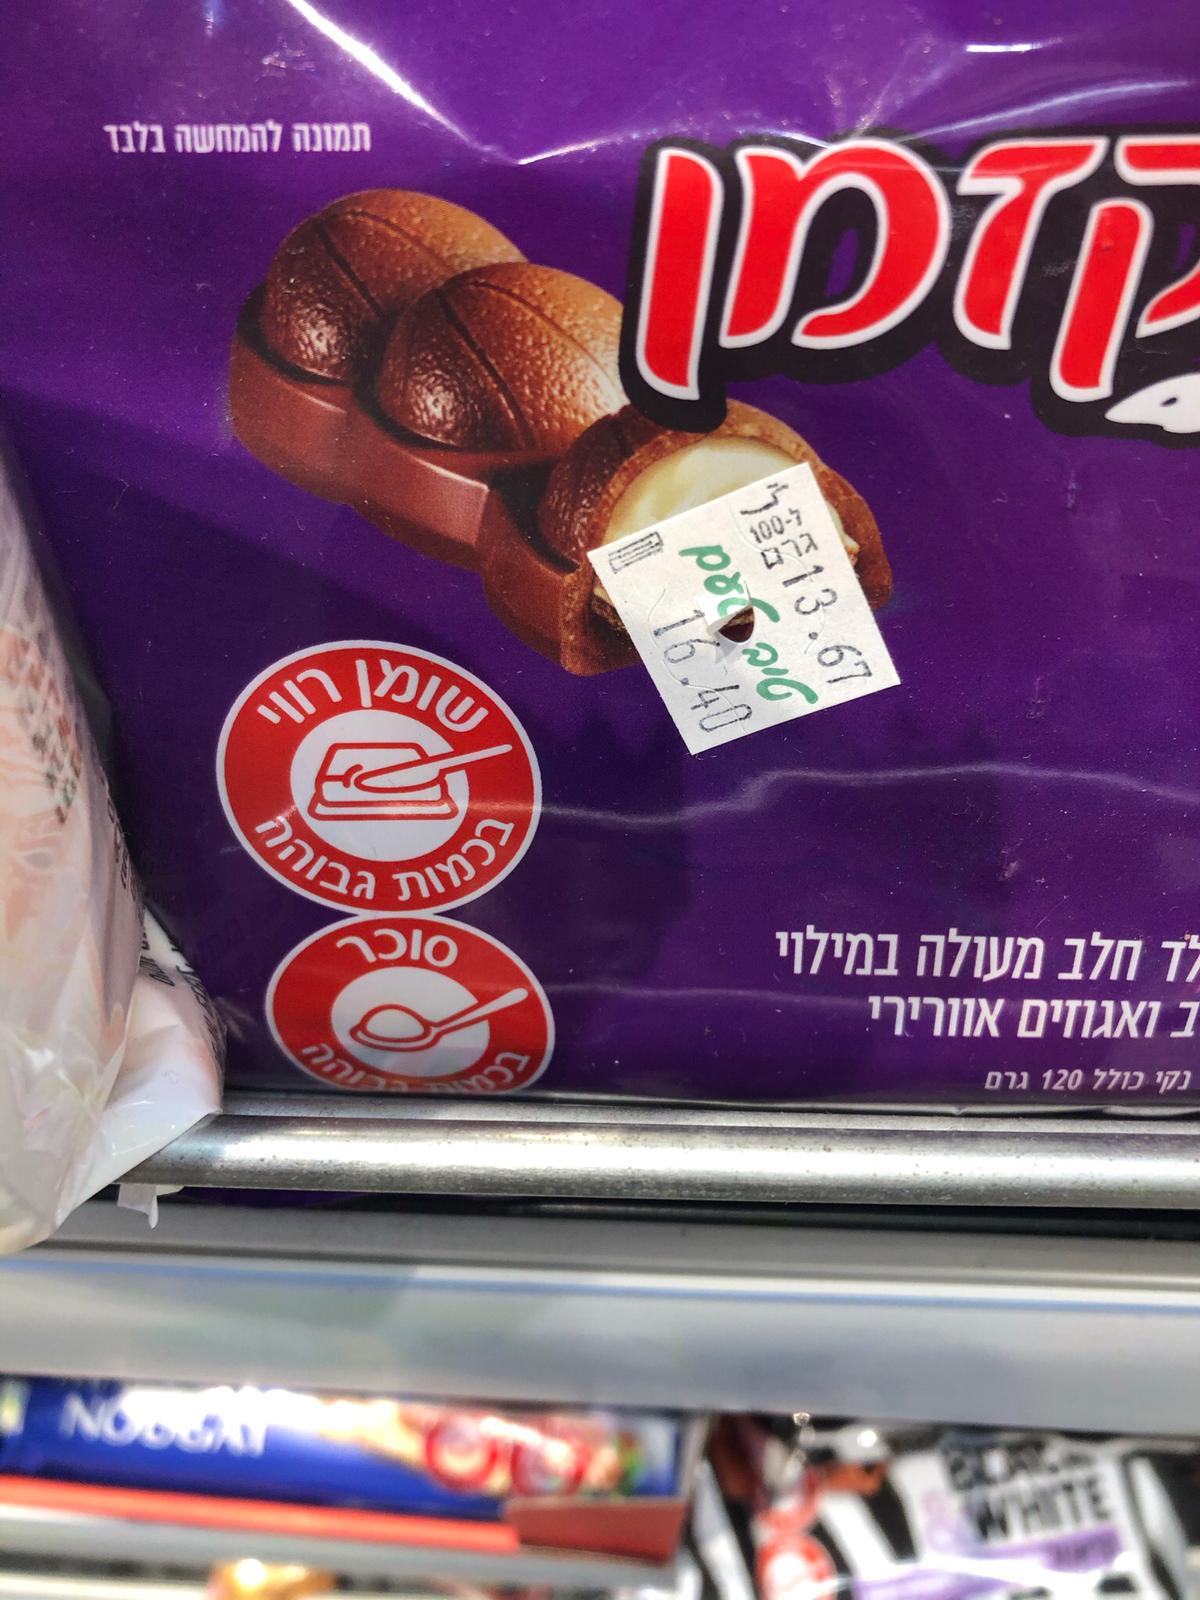fat: (211, 632, 546, 918)
sugar: (261, 911, 555, 1099)
